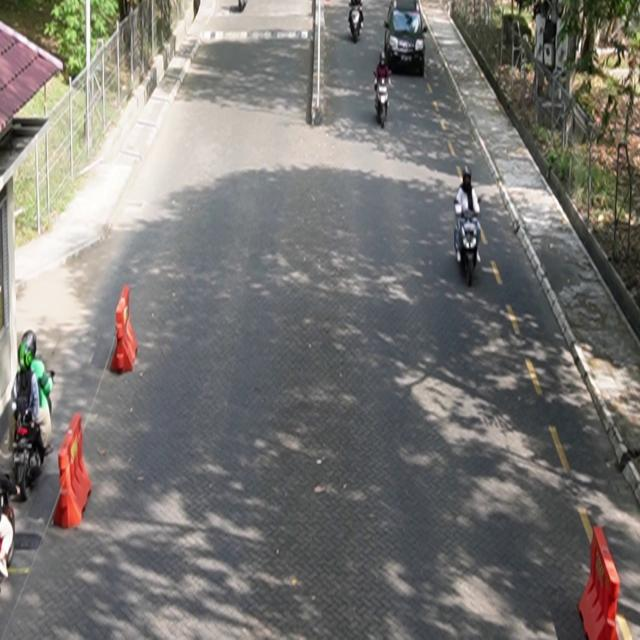car: (384, 1, 428, 77)
